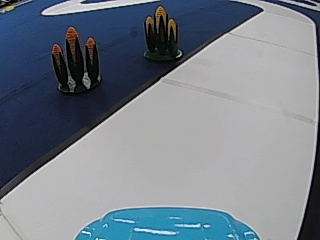corn: (50, 26, 104, 93), (140, 3, 182, 61)
